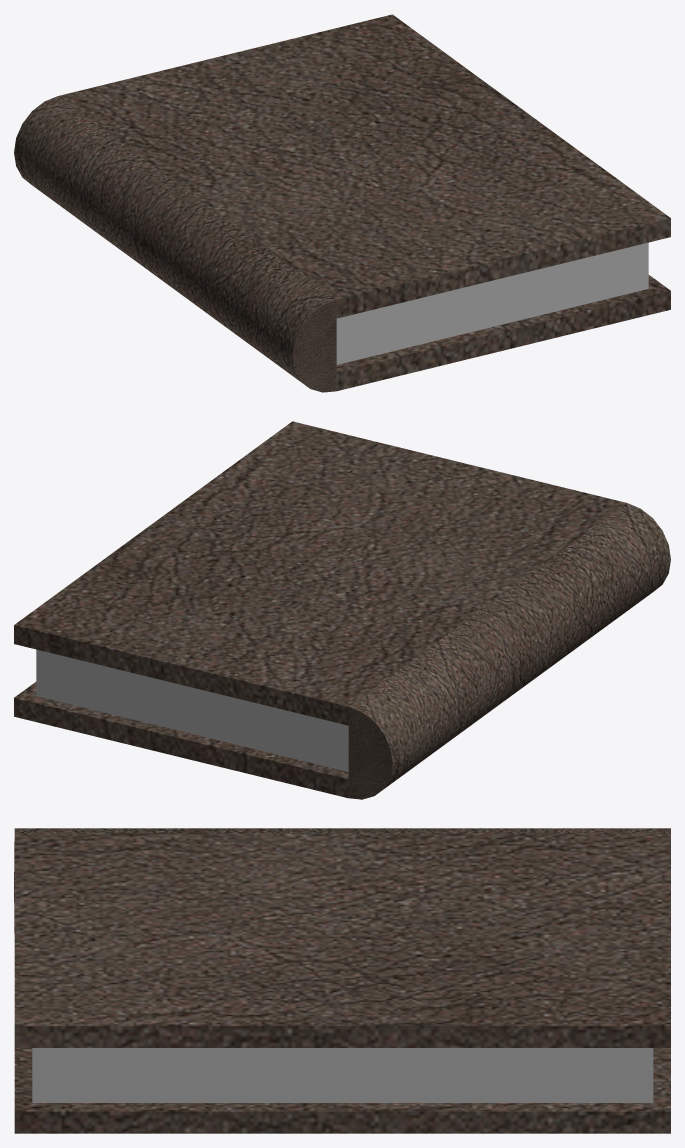
File: Libro.fbx
3 renders of one model, top to bottom at view 1: azimuth 30°, elevation 25°; view 2: azimuth 150°, elevation 25°; view 3: azimuth 270°, elevation 25°, orthographic. The views are drawn at different scales.
Parts seen in each view (by area): view 1: Libro; view 2: Libro; view 3: Libro.
Part boxes in pixels (box(x1,y1,x2,y2)): Libro: box(14, 14, 670, 392); Libro: box(14, 421, 670, 799); Libro: box(14, 828, 670, 1133).
Size of the model in its own units: 47.66 by 11.01 by 60.76.
Materials: 2 (1 with a texture image).
